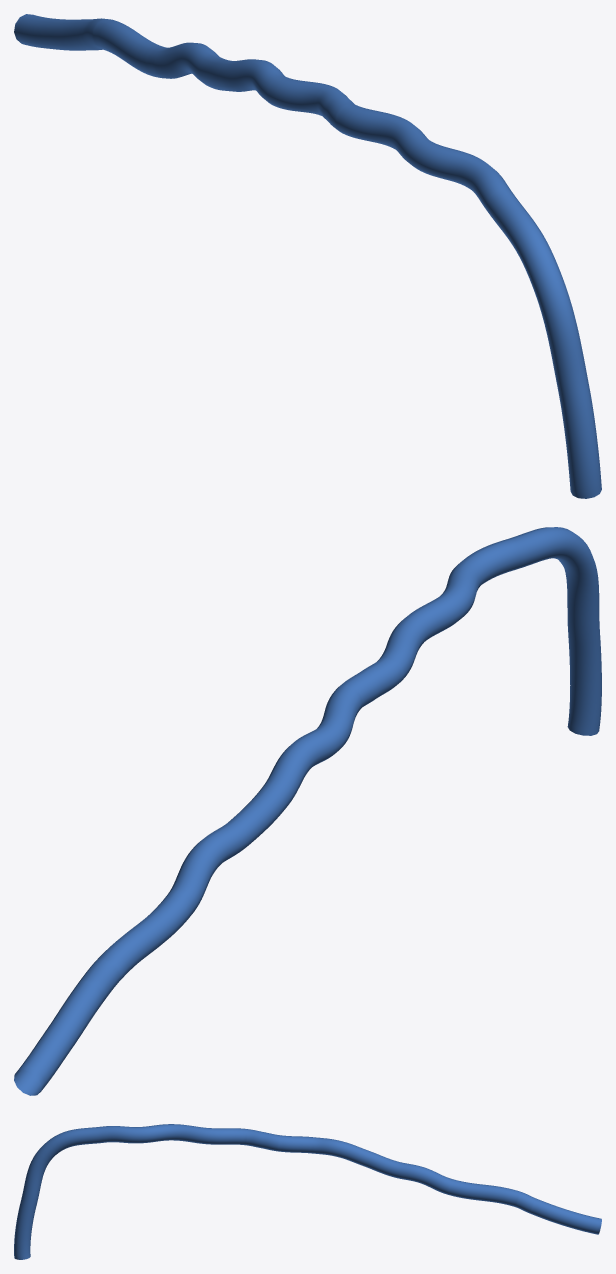
3 views of the same model, one above another, from view 1: azimuth 30°, elevation 25°; view 2: azimuth 150°, elevation 25°; view 3: azimuth 270°, elevation 25° (orthographic). The views are drawn at different scales.
Visible parts, largest first — view 1: 奇静脉; view 2: 奇静脉; view 3: 奇静脉.
Part boxes in pixels (x1=…): 奇静脉: x1=14, y1=14, x2=601, y2=498; 奇静脉: x1=14, y1=527, x2=601, y2=1095; 奇静脉: x1=14, y1=1124, x2=601, y2=1259.
Bounding box in the file's own units: 0.0179 × 0.0779 × 0.3169.
